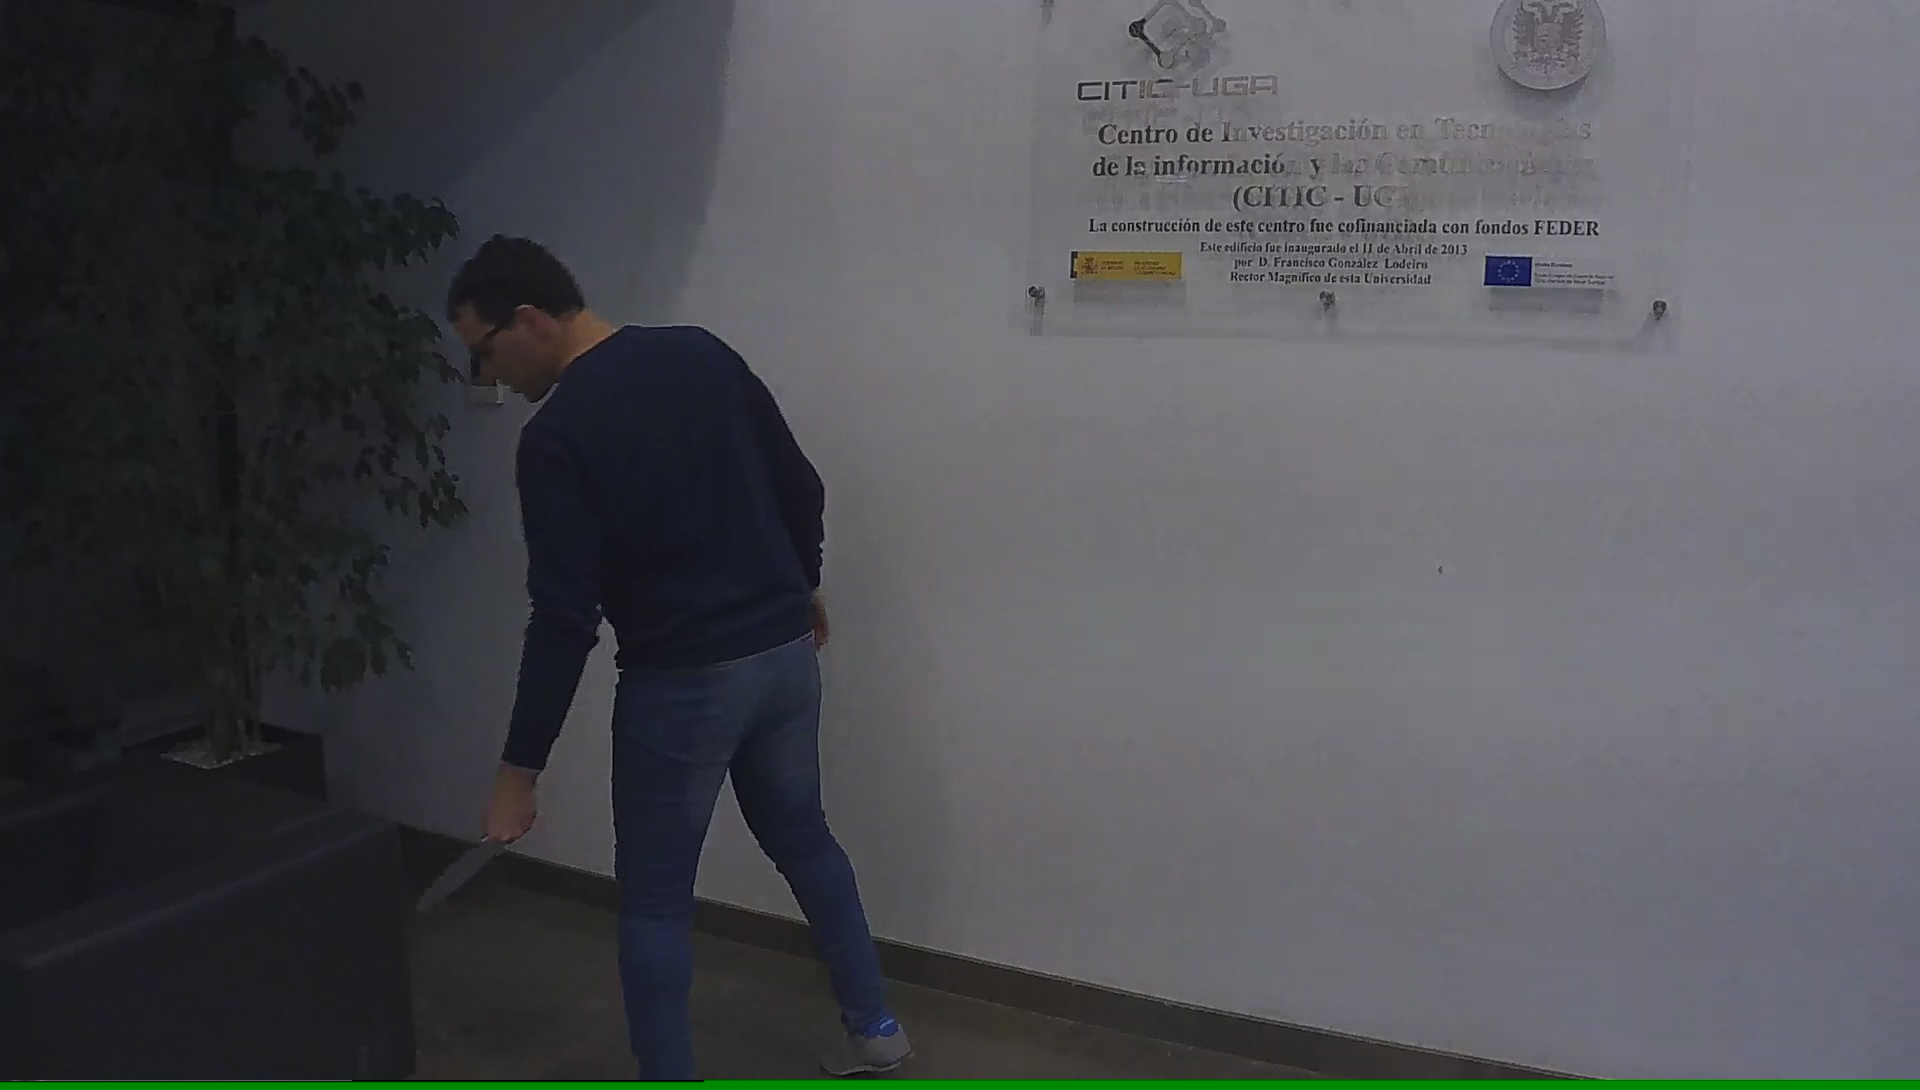knife: (405, 812, 535, 919)
